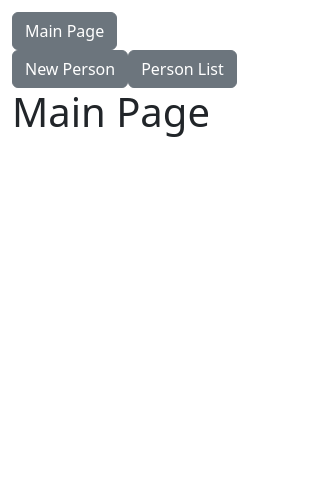
Scenario: Prson Testler › If entered  passingname and then deleted- name error shown and name error text correct?
Click the button with test id "newPersonBtn" at (70, 69), box left=12, top=50, right=128, bottom=88
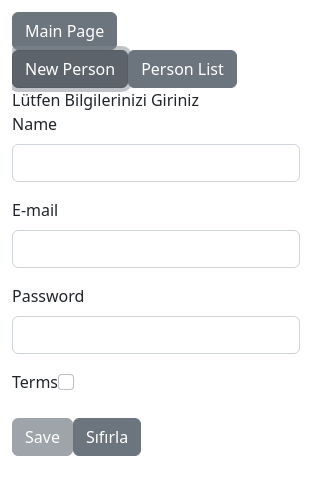
Type "Serkan" into the field with test id "newPersonSaveName" at (156, 163), box left=12, top=144, right=300, bottom=182
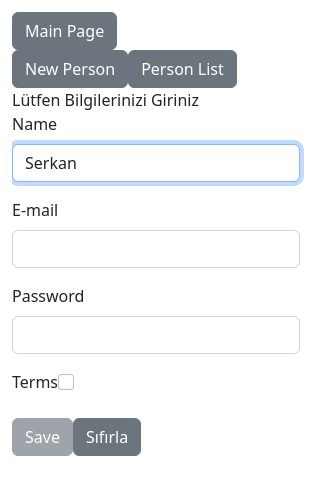
Clear the field with test id "newPersonSaveName" at (156, 163), box left=12, top=144, right=300, bottom=182
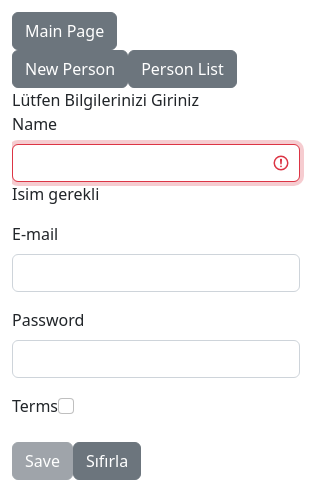
expect the number of elements with test id "Error" is 1: met, box left=12, top=183, right=99, bottom=205
expect the text with test id "Error" reads "Isim gerekli": met, box left=12, top=183, right=99, bottom=205
